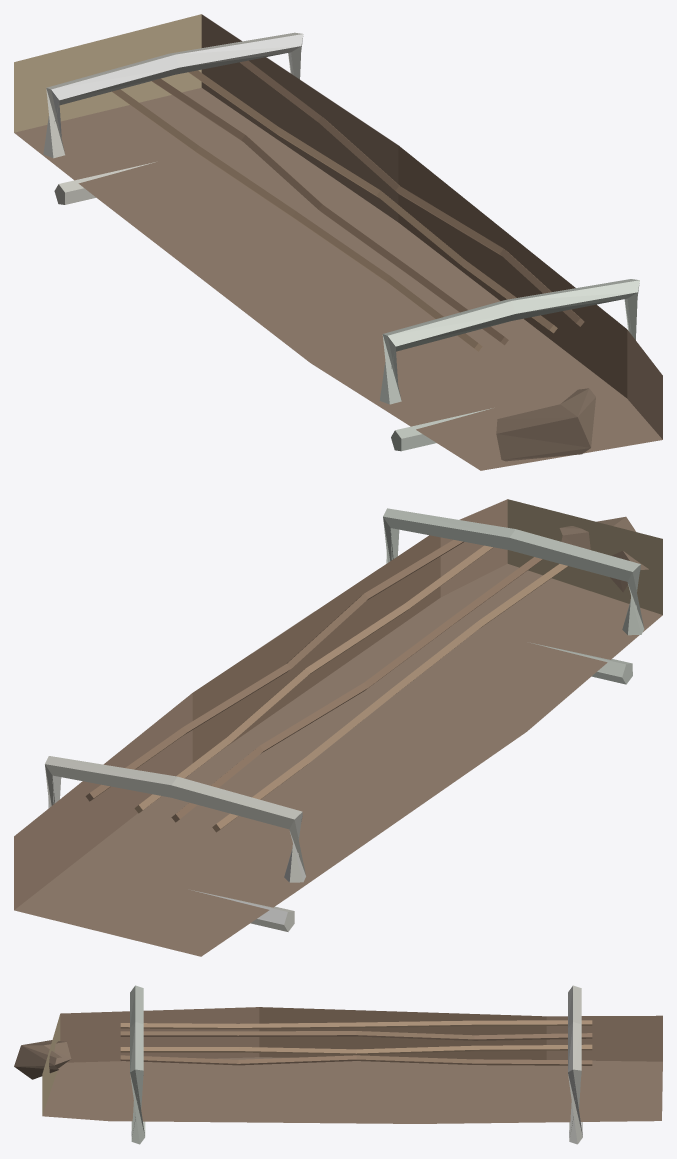
File: bark_plank_b.glb
3 renders of one model, top to bottom at view 1: azimuth 30°, elevation 25°; view 2: azimuth 150°, elevation 25°; view 3: azimuth 270°, elevation 25°, orthographic. The views are drawn at different scales.
Parts seen in each view (by area): view 1: FacetedPlank, SilkEdgeBinding2, SilkEdgeBinding1, ChippedBark, WoodGrain1, WoodGrain3, WoodGrain2, WoodGrain4; view 2: FacetedPlank, SilkEdgeBinding2, SilkEdgeBinding1, WoodGrain4, WoodGrain2, WoodGrain3, WoodGrain1, ChippedBark; view 3: FacetedPlank, WoodGrain1, WoodGrain4, WoodGrain3, WoodGrain2, SilkEdgeBinding2, SilkEdgeBinding1, ChippedBark.
Boxes of the visible parts, x1,y1,x2,y2 form: FacetedPlank: (14,14,662,470); SilkEdgeBinding2: (379,279,639,451); SilkEdgeBinding1: (43,32,303,204); ChippedBark: (496,388,595,461); WoodGrain1: (112,89,482,351); WoodGrain3: (188,70,557,333); WoodGrain2: (151,78,508,345); WoodGrain4: (240,60,584,326); FacetedPlank: (14,499,662,956); SilkEdgeBinding2: (383,508,644,684); SilkEdgeBinding1: (45,756,305,931); WoodGrain4: (85,540,463,801); WoodGrain2: (171,557,542,822); WoodGrain3: (134,545,492,813); WoodGrain1: (212,564,568,832); ChippedBark: (559,516,648,592); FacetedPlank: (42,1007,662,1123); WoodGrain1: (120,1020,592,1029); WoodGrain4: (120,1055,592,1065); WoodGrain3: (120,1044,592,1054); WoodGrain2: (120,1031,592,1040); SilkEdgeBinding2: (130,985,145,1144); SilkEdgeBinding1: (568,985,582,1144); ChippedBark: (14,1040,71,1079).
Bounding box in the file's own units: 0.2291 × 0.1085 × 0.7709.
